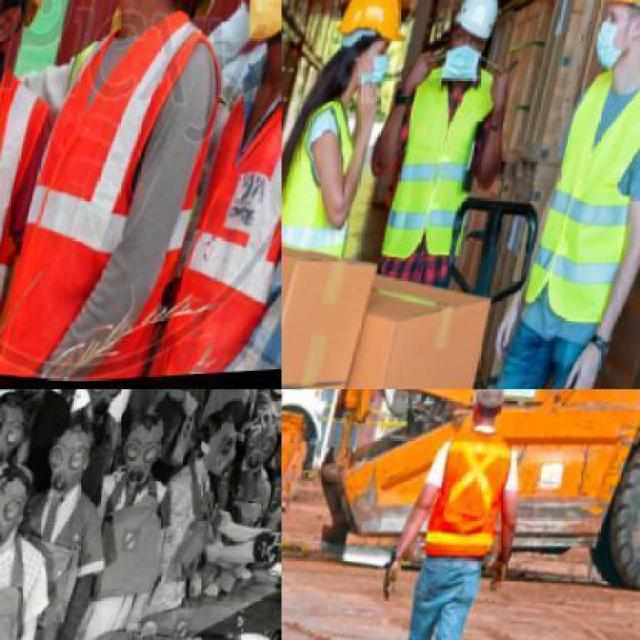Vest: (0, 0, 238, 387), (172, 52, 280, 380), (526, 70, 639, 342), (388, 68, 510, 264), (0, 50, 58, 372), (282, 94, 384, 251), (430, 428, 528, 568)
